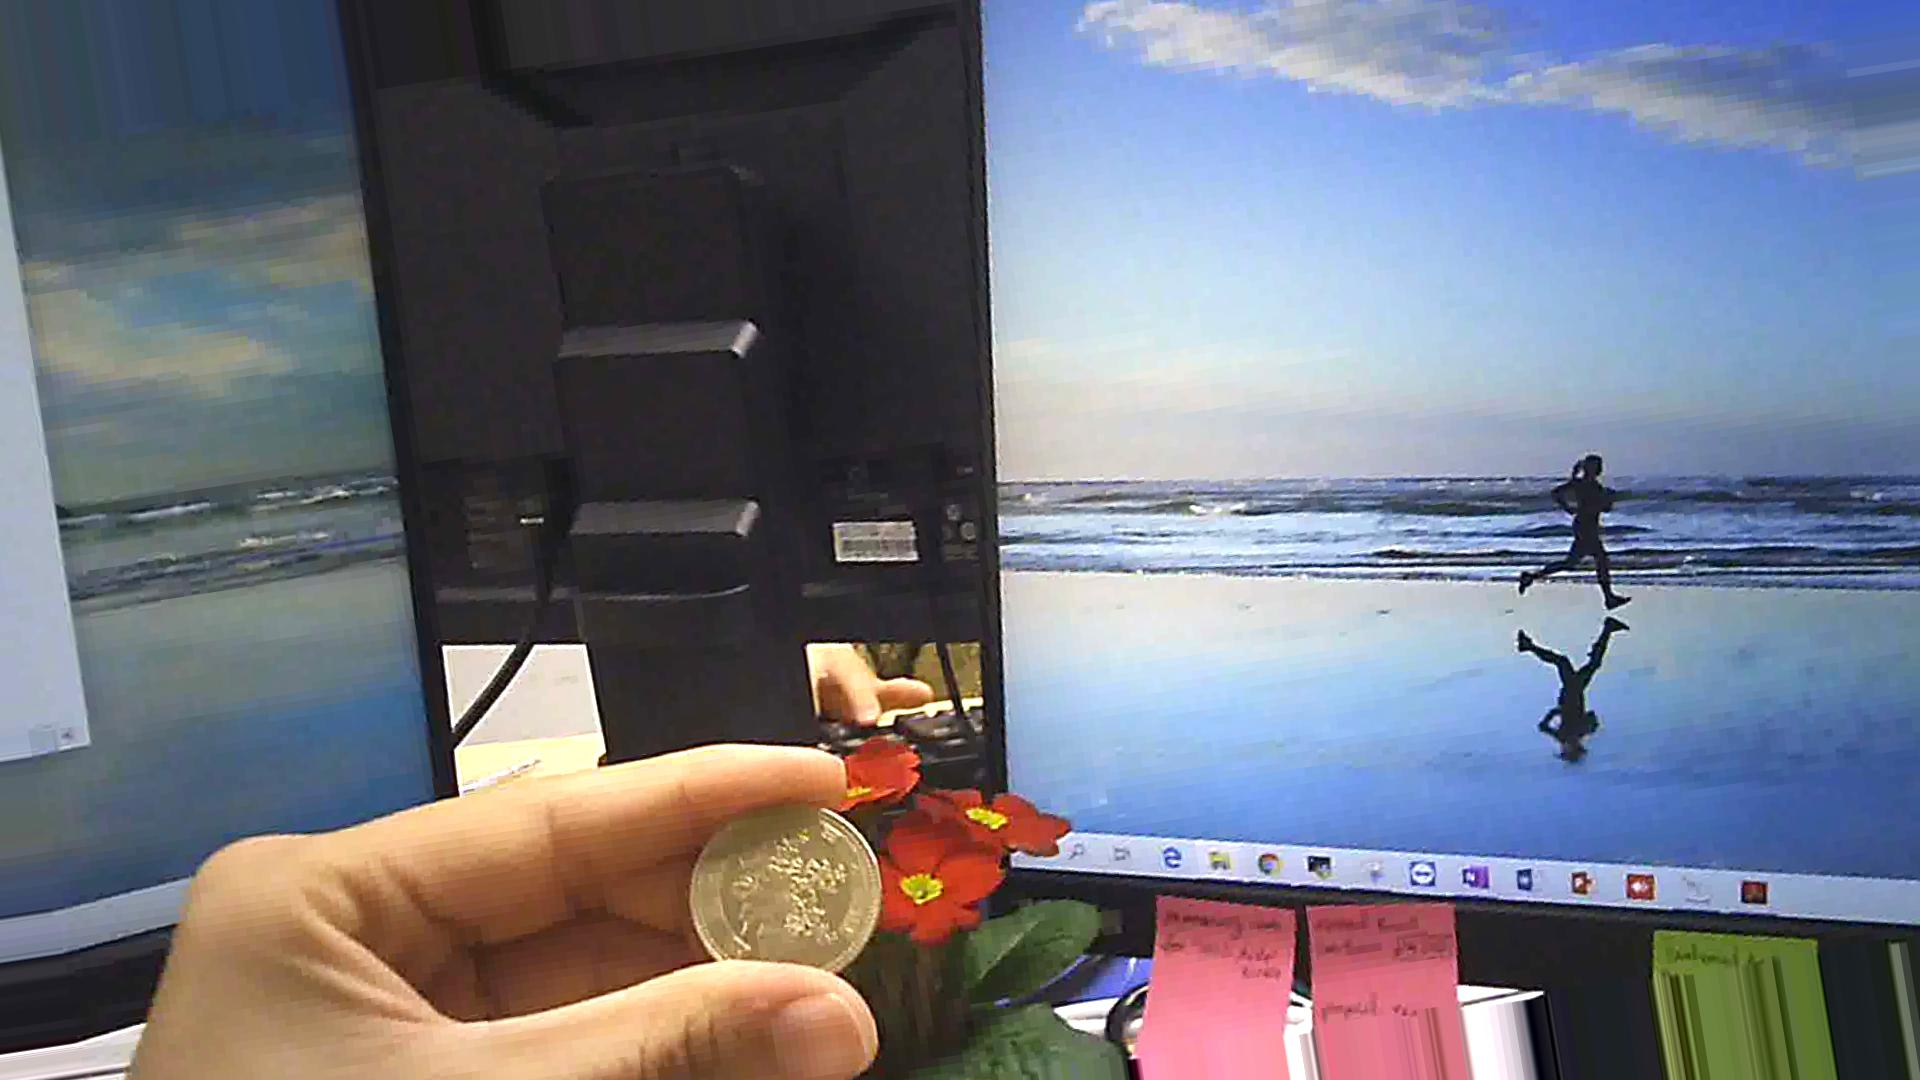500 Yen: (684, 787, 877, 997)
